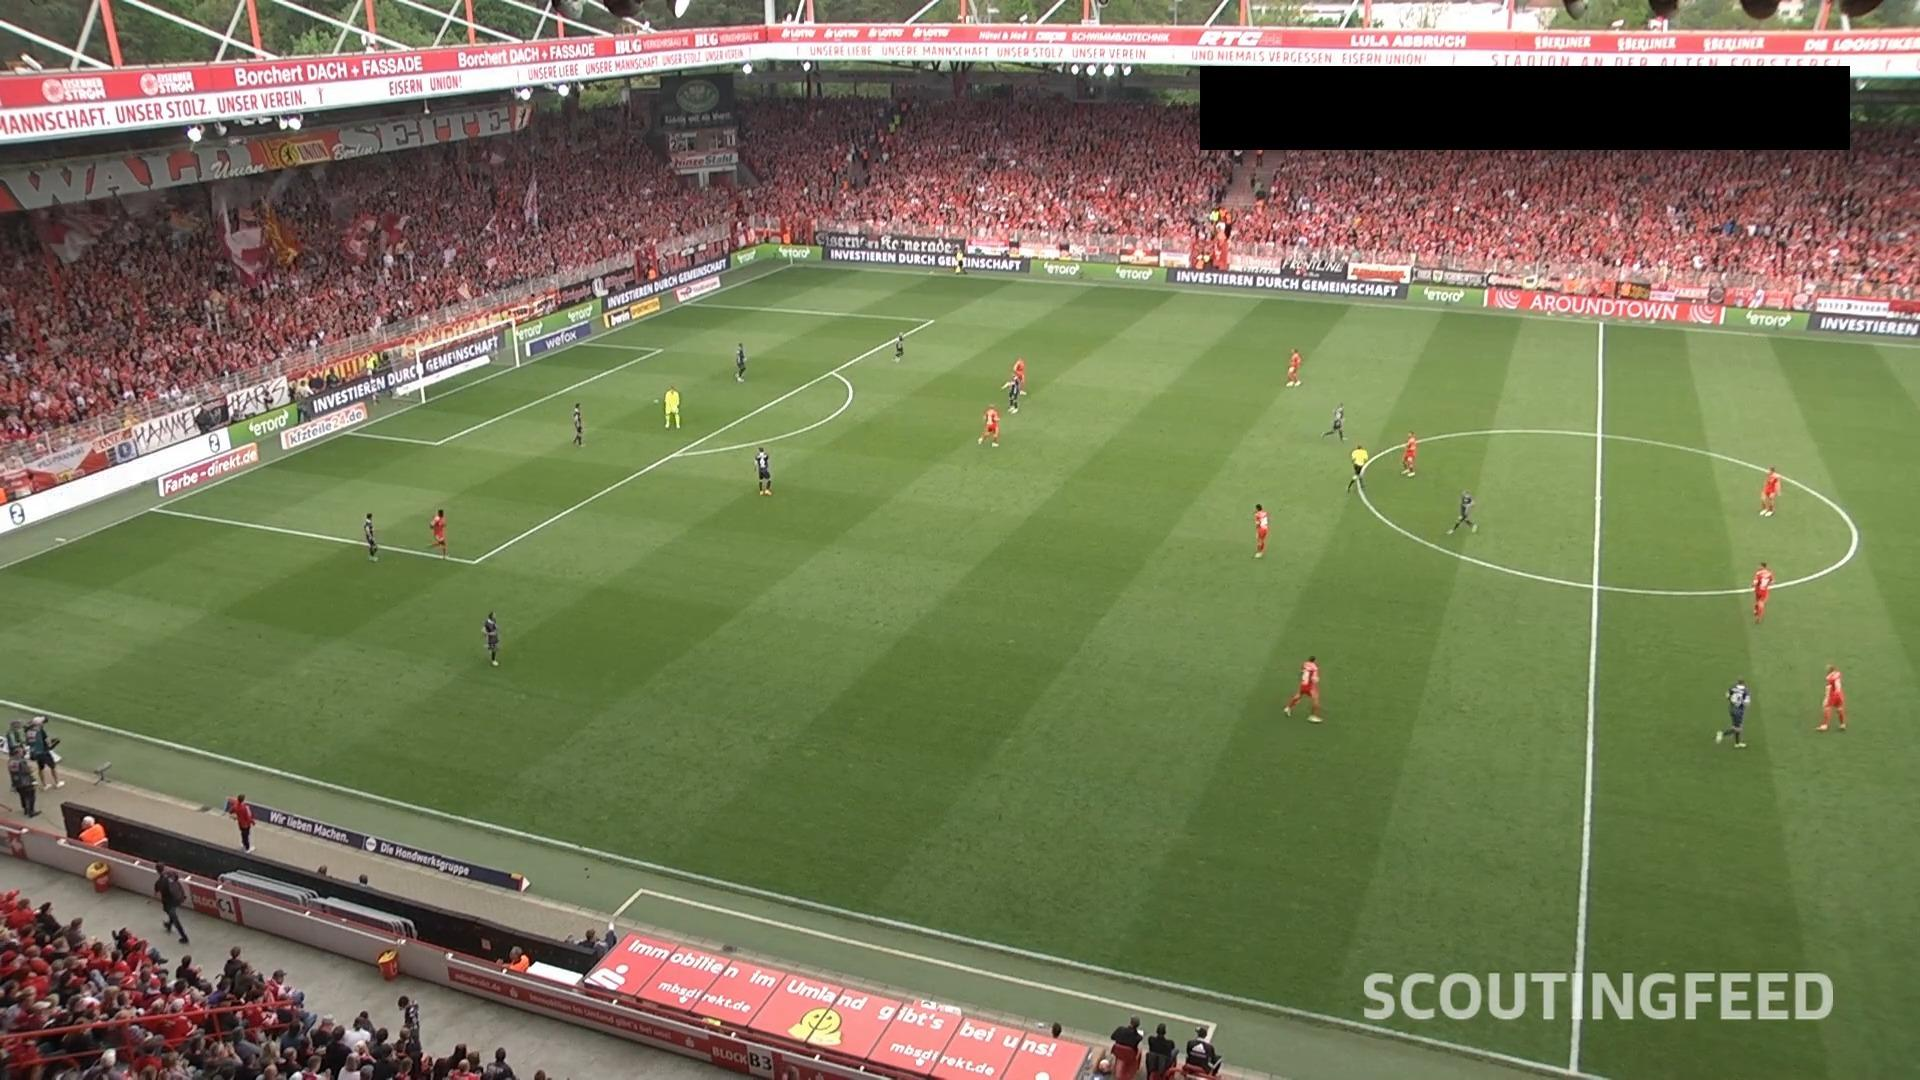ball: (671, 405, 680, 414)
